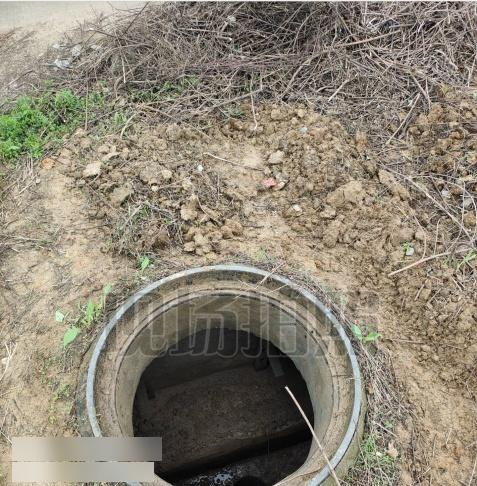wellcover: (88, 266, 367, 486)
